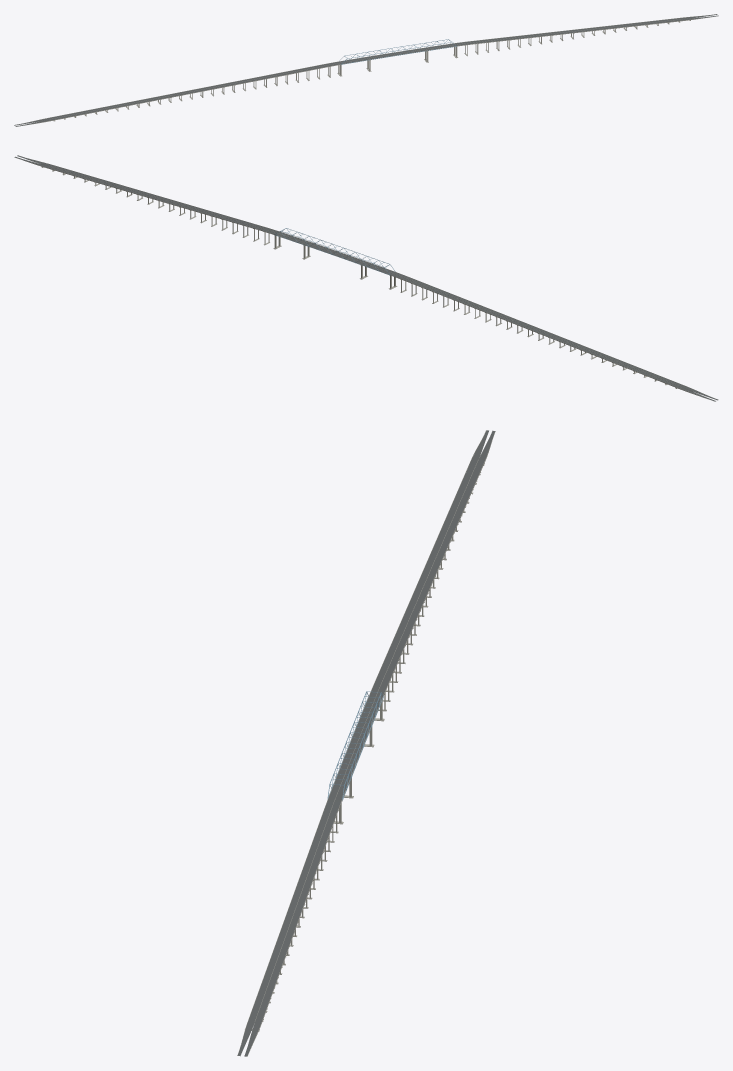
Rendered from don-holt-bridge-far.glb.
3 renders of one model, top to bottom at view 1: azimuth 30°, elevation 25°; view 2: azimuth 150°, elevation 25°; view 3: azimuth 270°, elevation 25°, orthographic. The views are drawn at different scales.
Visible parts, largest first — view 1: don-holt-bridge-0-concrete, don-holt-bridge-0-asphalt, don-holt-bridge-0-steel; view 2: don-holt-bridge-0-concrete, don-holt-bridge-0-asphalt, don-holt-bridge-0-steel; view 3: don-holt-bridge-0-asphalt, don-holt-bridge-0-concrete, don-holt-bridge-0-steel.
Boxes of the visible parts, x1=… form: don-holt-bridge-0-concrete: x1=15, y1=14, x2=716, y2=126; don-holt-bridge-0-asphalt: x1=14, y1=14, x2=718, y2=126; don-holt-bridge-0-steel: x1=339, y1=39, x2=456, y2=64; don-holt-bridge-0-concrete: x1=23, y1=158, x2=718, y2=399; don-holt-bridge-0-asphalt: x1=14, y1=155, x2=717, y2=401; don-holt-bridge-0-steel: x1=275, y1=228, x2=395, y2=275; don-holt-bridge-0-asphalt: x1=237, y1=430, x2=495, y2=1056; don-holt-bridge-0-concrete: x1=237, y1=430, x2=495, y2=1055; don-holt-bridge-0-steel: x1=327, y1=691, x2=383, y2=800.
Bounding box in the file's own units: 2944 × 73.53 × 514.
